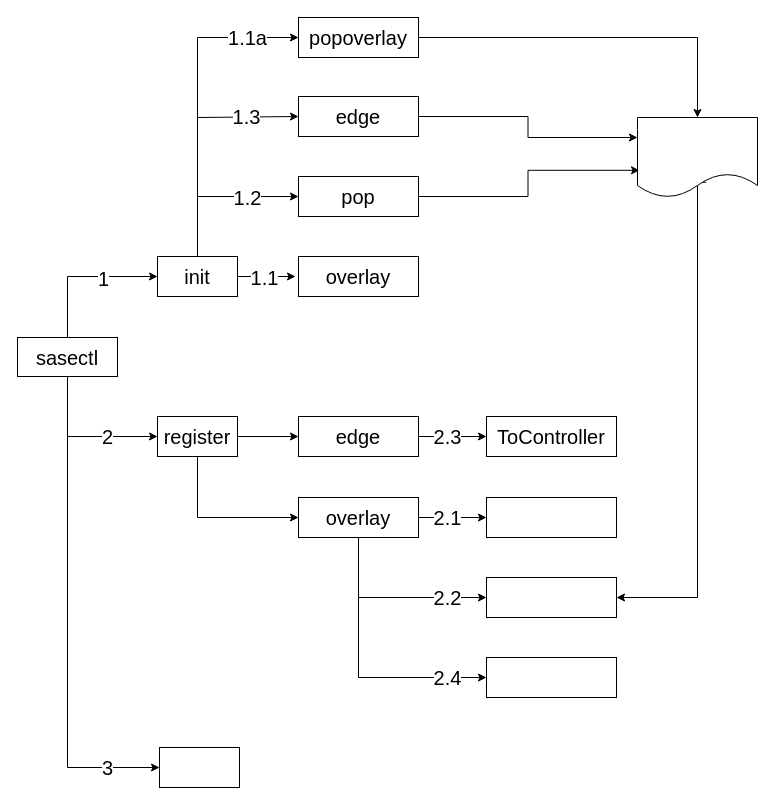
Some shapes in this 775 by 805 pixel diagram are drawn without their labels. Each missing label, with the centre of its shape:
kubecfg: [697,157]
preReg: [551,517]
regCon: [551,677]
regDev: [551,597]
reset: [199,767]
